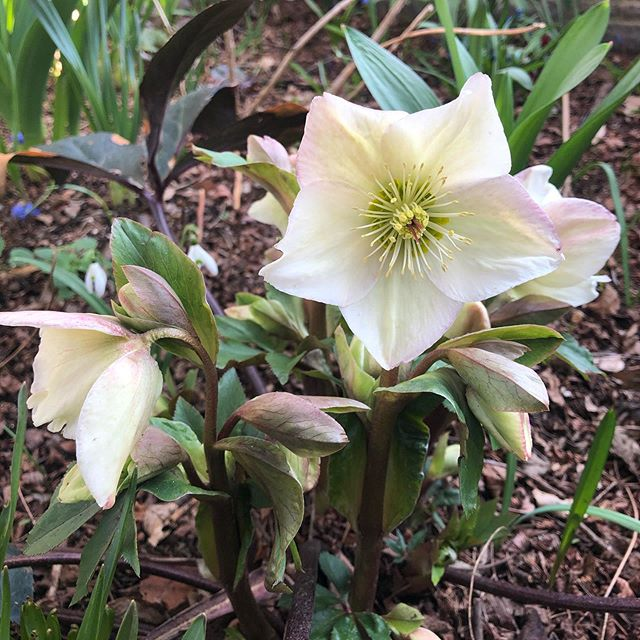flowers: (7, 76, 592, 559)
